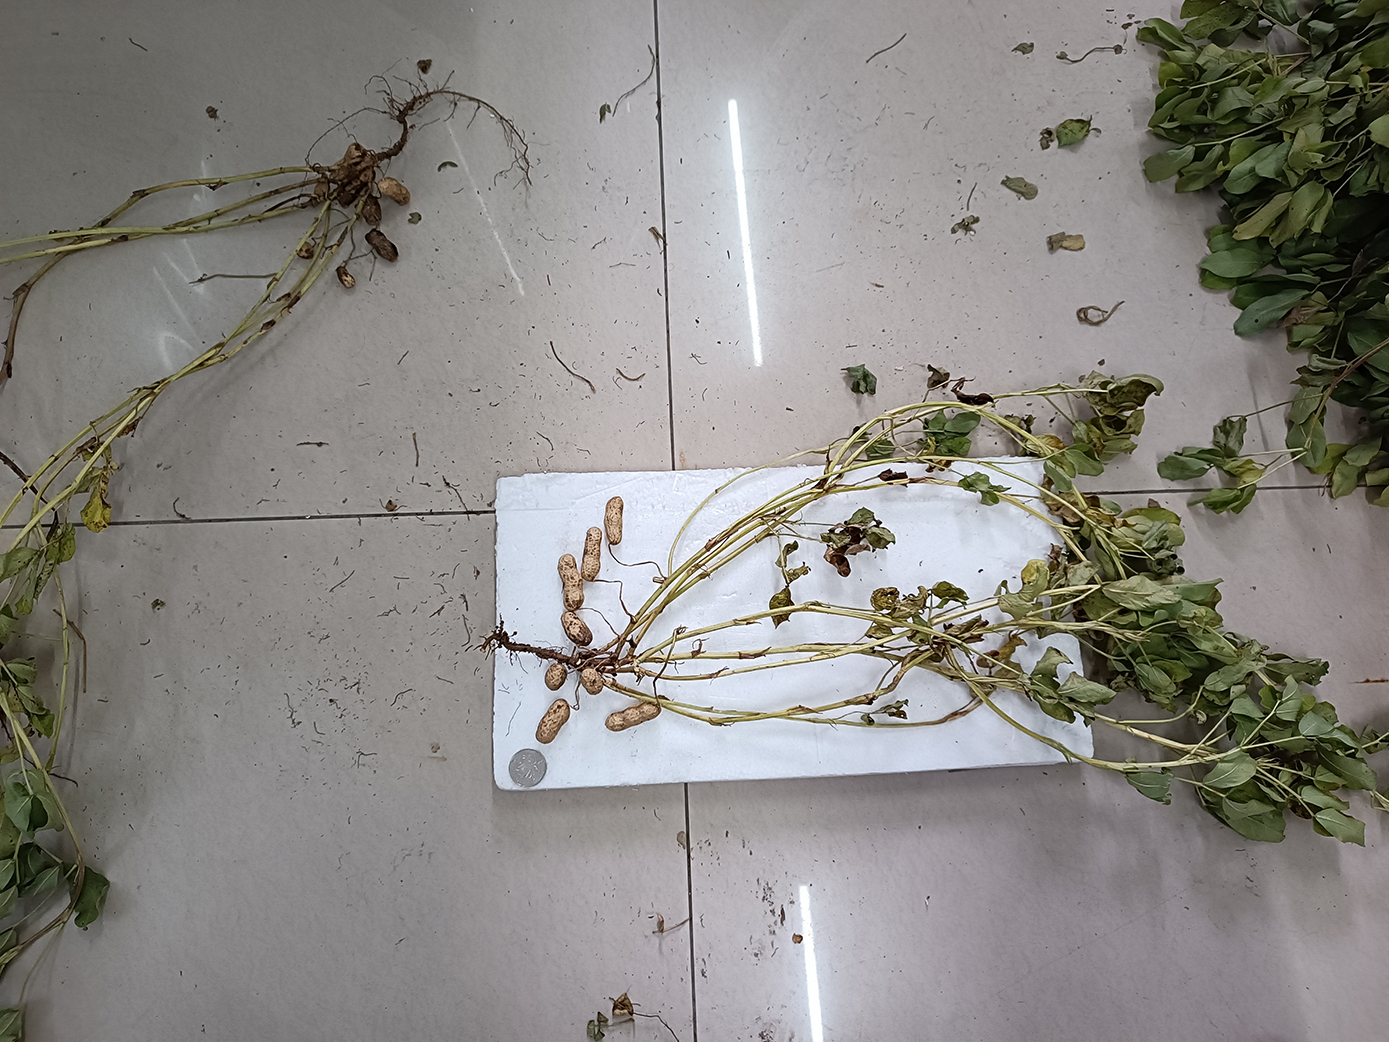h: (605, 701, 662, 731), (535, 696, 571, 742), (557, 554, 584, 609), (560, 610, 593, 646), (581, 526, 601, 581), (603, 495, 624, 545), (580, 667, 603, 696), (545, 664, 568, 688)
